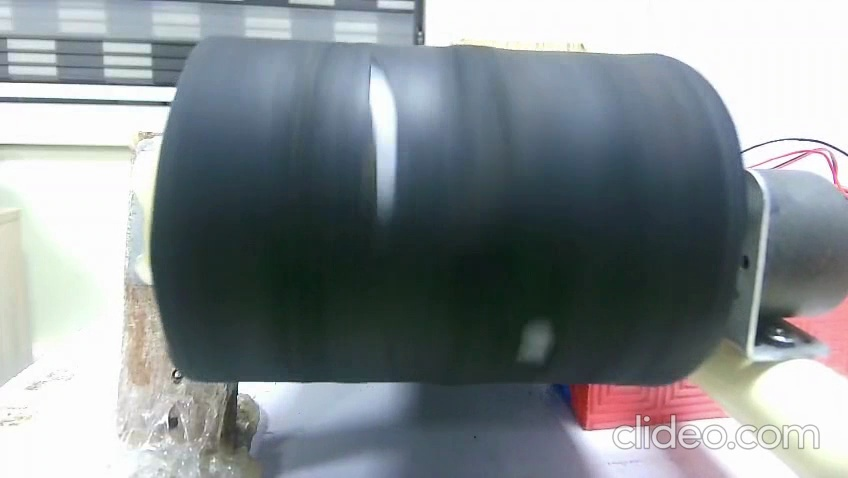hole: (515, 312, 566, 370)
tear: (364, 50, 411, 224)
